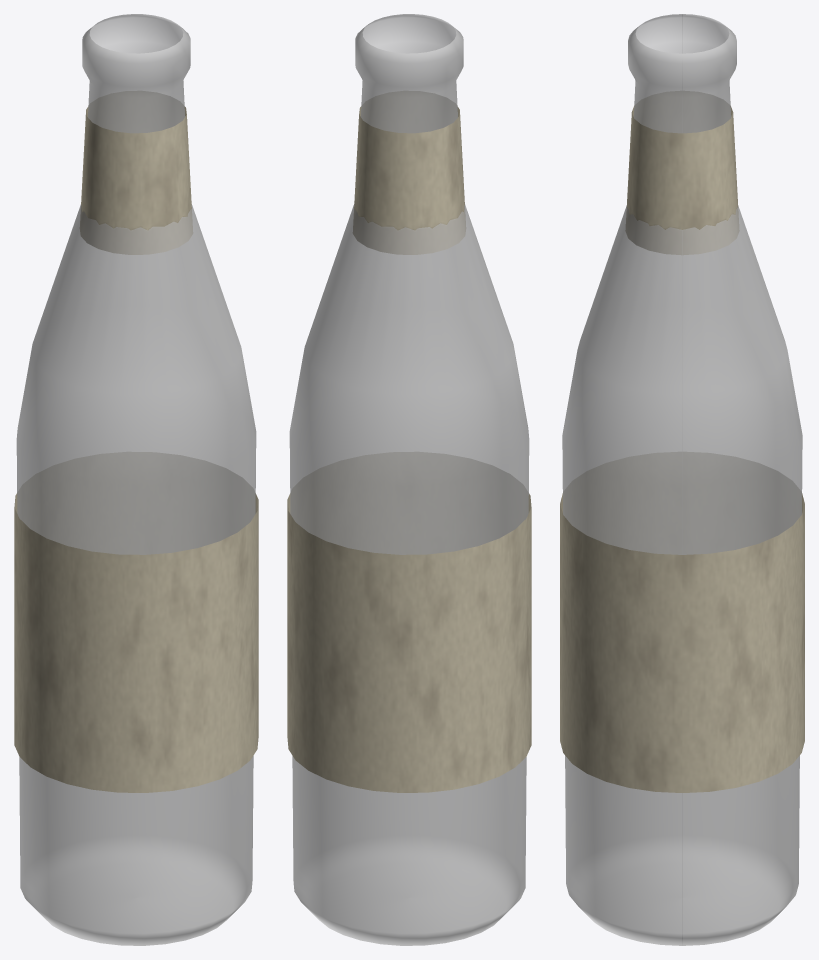
Rendered from dom_butelka.glb.
3 views of the same model, side by side, from view 1: azimuth 30°, elevation 25°; view 2: azimuth 150°, elevation 25°; view 3: azimuth 270°, elevation 25° (orthographic).
Visible parts, largest first — view 1: TintButelka, Etykieta; view 2: TintButelka, Etykieta; view 3: TintButelka, Etykieta.
Part boxes in pixels (bbox=[...]): TintButelka: bbox=[16, 14, 256, 945]; Etykieta: bbox=[14, 91, 258, 792]; TintButelka: bbox=[289, 14, 529, 945]; Etykieta: bbox=[287, 91, 531, 792]; TintButelka: bbox=[562, 14, 802, 945]; Etykieta: bbox=[560, 91, 804, 792].
Size of the model in its own units: 0.0652 by 0.256 by 0.0652.
Materials: 2 (1 with a texture image).
